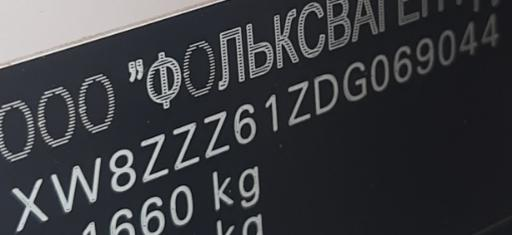letter: (48, 156, 102, 213), (6, 176, 50, 232), (140, 131, 170, 183), (171, 120, 201, 171), (107, 148, 137, 195), (202, 110, 230, 159), (285, 78, 311, 125), (313, 70, 339, 115), (232, 102, 258, 145), (342, 60, 366, 103), (392, 43, 414, 82), (262, 92, 282, 133), (480, 12, 502, 49), (436, 28, 458, 65), (370, 54, 390, 94), (415, 36, 435, 75), (458, 18, 478, 56)
